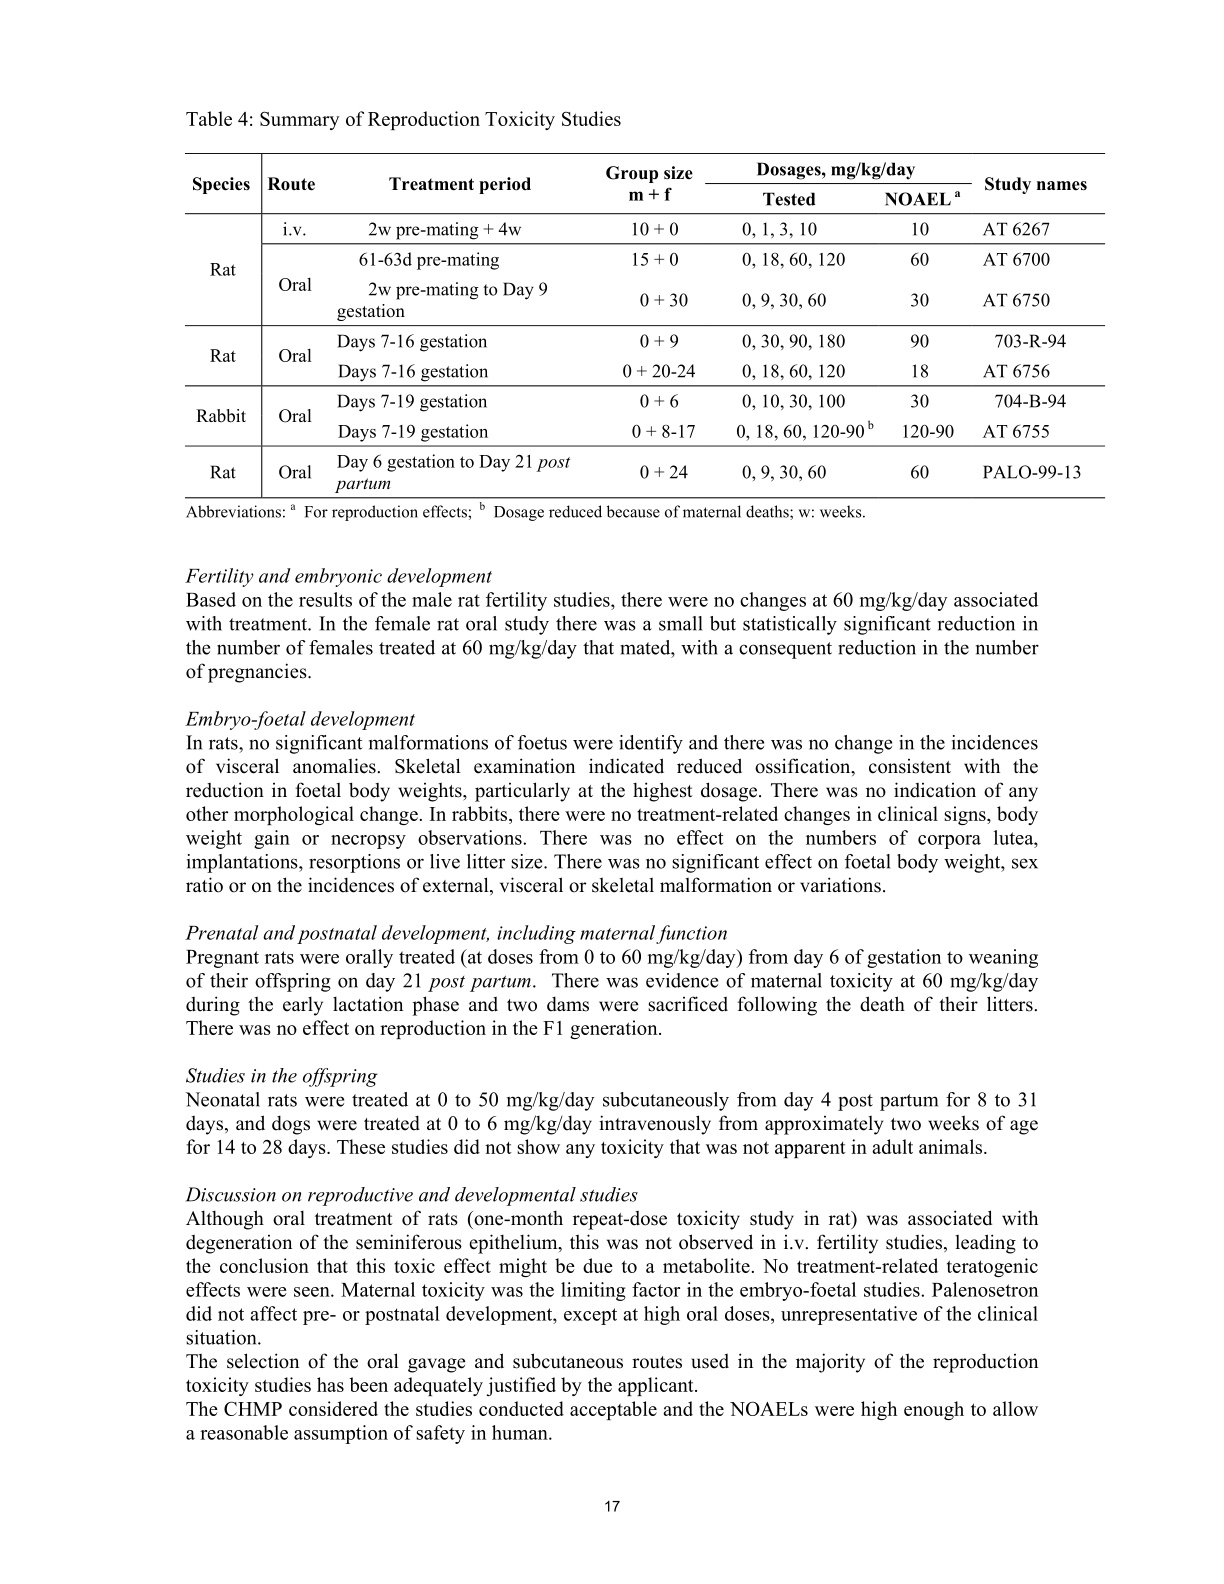partial_lined_merged_cells: (183, 150, 1107, 501)
